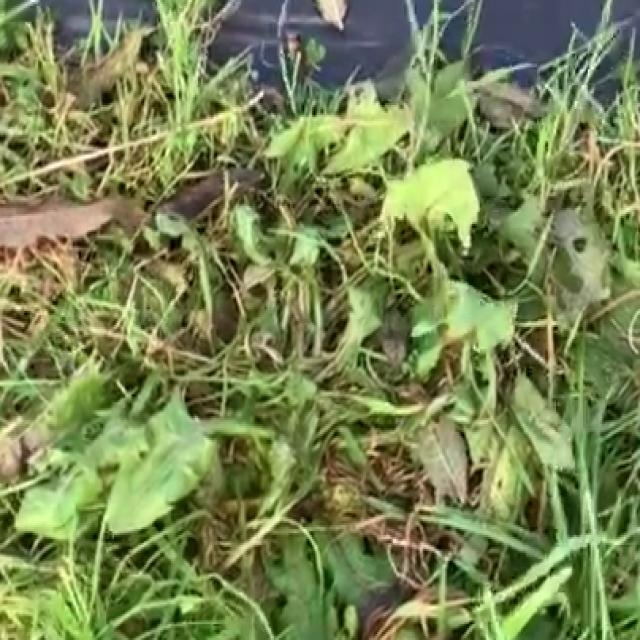organic waste: (257, 119, 564, 408), (38, 376, 344, 598)
